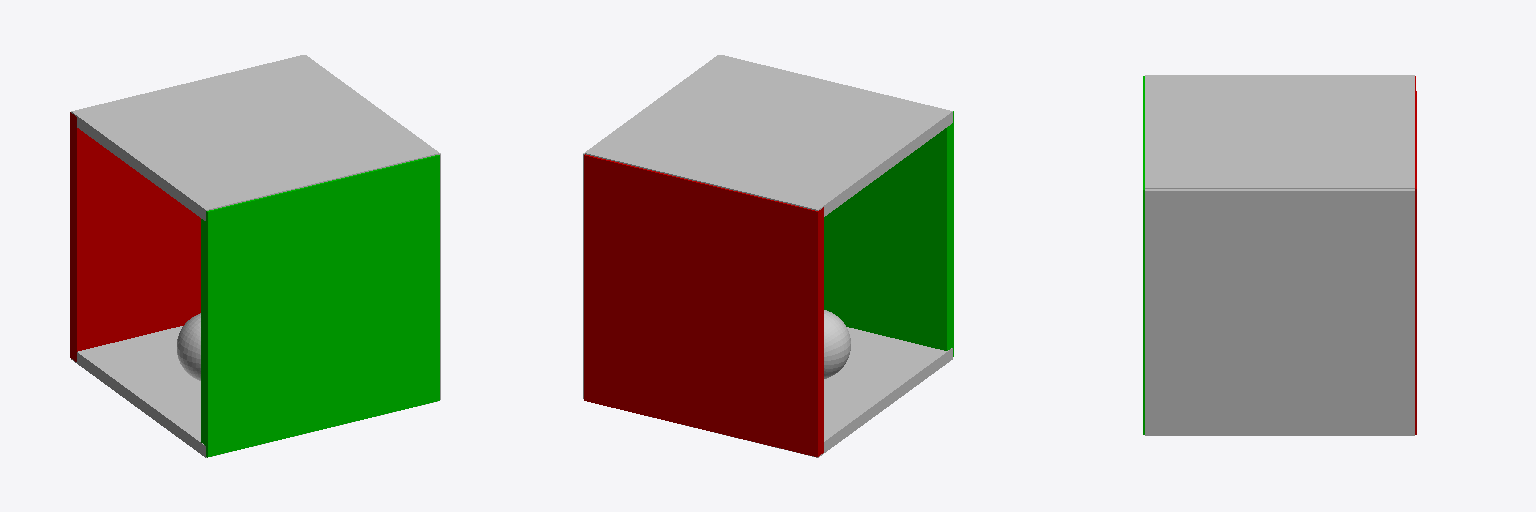
Rendered from cornellBox.obj.
3 renders of one model, left to right at view 1: azimuth 30°, elevation 25°; view 2: azimuth 150°, elevation 25°; view 3: azimuth 270°, elevation 25°, orthographic.
Parts seen in each view (by area): view 1: Cube.003, Cube.006, Cube.002, Cube.004, Cube.008; view 2: Cube.002, Cube.006, Cube.003, Cube.004, Cube.008; view 3: Cube.001, Cube.006, Cube.003, Cube.002.
Boxes of the visible parts, box(x1,y1,x2,y2) form: Cube.003: box(201, 155, 439, 457); Cube.006: box(71, 55, 438, 220); Cube.002: box(70, 112, 200, 361); Cube.004: box(71, 326, 437, 457); Cube.008: box(177, 313, 200, 380); Cube.002: box(584, 154, 823, 456); Cube.006: box(585, 55, 952, 216); Cube.003: box(824, 111, 953, 356); Cube.004: box(648, 327, 952, 457); Cube.008: box(824, 310, 850, 378); Cube.001: box(1145, 189, 1414, 435); Cube.006: box(1145, 75, 1414, 188); Cube.003: box(1143, 76, 1144, 434); Cube.002: box(1415, 76, 1416, 434).
Size of the model in its own units: 2.09 by 2.1 by 2.11.